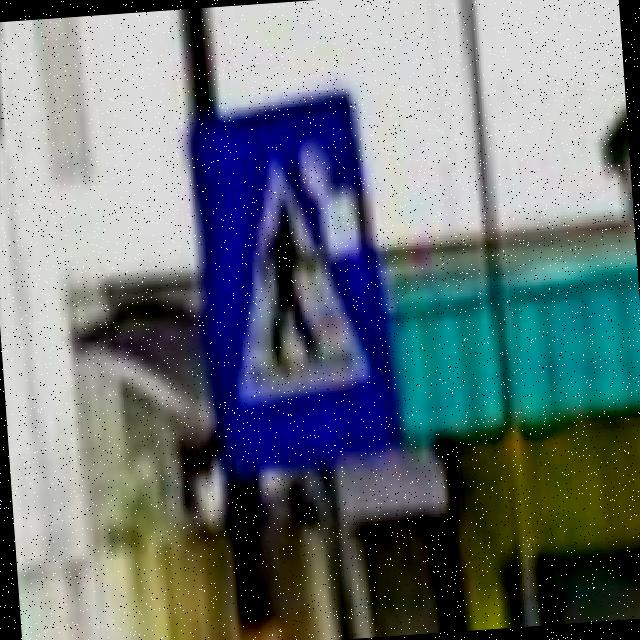Przejscie dla pieszych: (186, 94, 410, 481)
